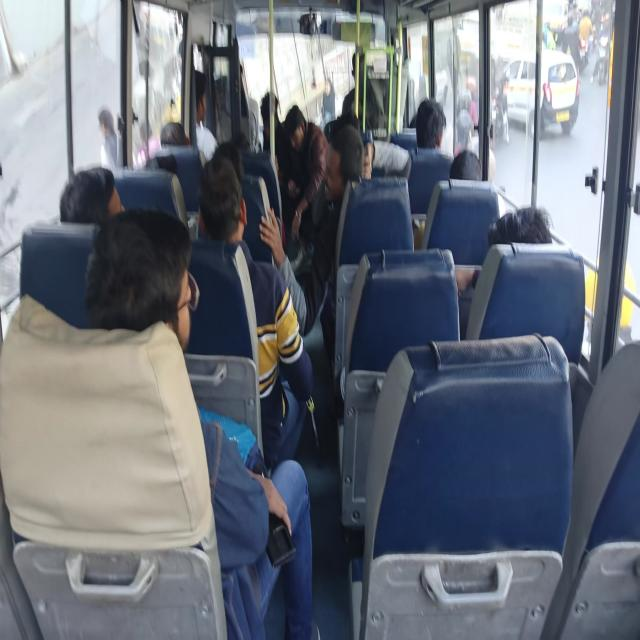person: (126, 253, 211, 370), (492, 206, 559, 270), (51, 171, 112, 232), (200, 177, 254, 238), (139, 144, 183, 198), (452, 144, 491, 203), (322, 115, 372, 156), (155, 100, 194, 150), (330, 144, 361, 197), (210, 43, 238, 101), (211, 152, 248, 190), (419, 112, 445, 158), (222, 132, 258, 162), (254, 93, 278, 136), (353, 41, 373, 91), (288, 110, 304, 157)
